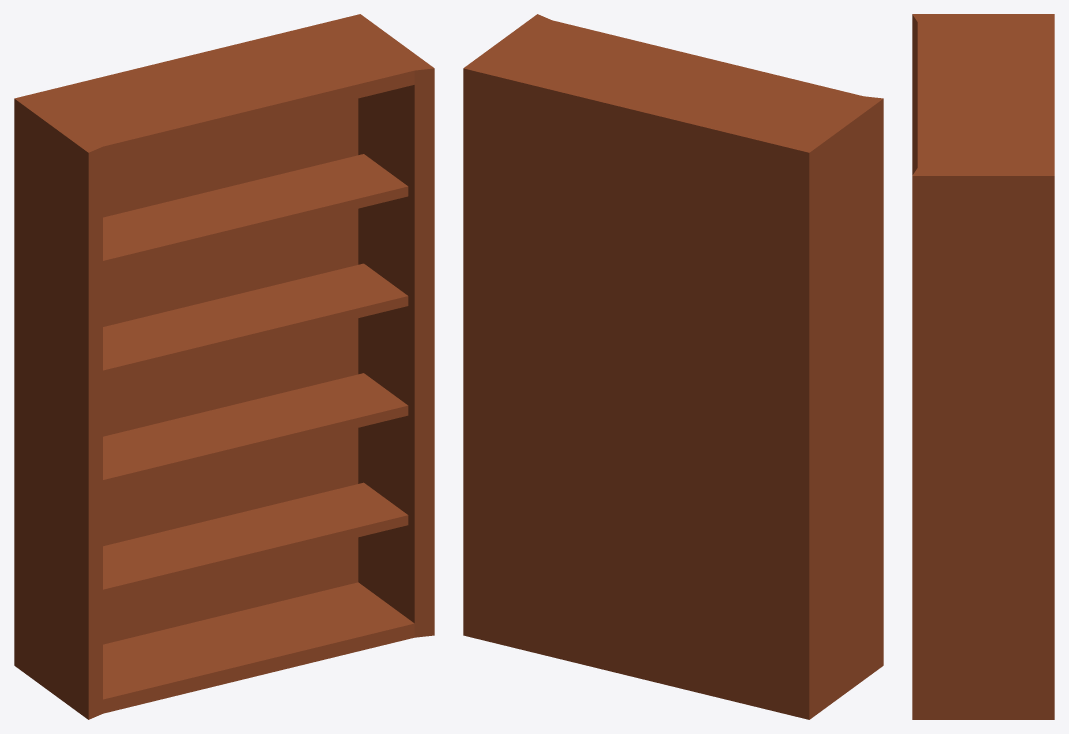
The model's file is Prop_Fantasy_Book_Shelf_Timber_02.FBX.
The picture shows the model from 3 angles, left to right: view 1: azimuth 30°, elevation 25°; view 2: azimuth 150°, elevation 25°; view 3: azimuth 270°, elevation 25°; orthographic projection. The views are drawn at different scales.
Parts seen in each view (by area): view 1: Prop_Fantasy_Book_Shelf_Timber_02; view 2: Prop_Fantasy_Book_Shelf_Timber_02; view 3: Prop_Fantasy_Book_Shelf_Timber_02.
Part boxes in pixels (x1,y1,x2,y2): Prop_Fantasy_Book_Shelf_Timber_02: [14, 14, 434, 719]; Prop_Fantasy_Book_Shelf_Timber_02: [463, 14, 883, 719]; Prop_Fantasy_Book_Shelf_Timber_02: [912, 14, 1054, 719].
Size of the model in its own units: 1423 by 2228 by 529.
